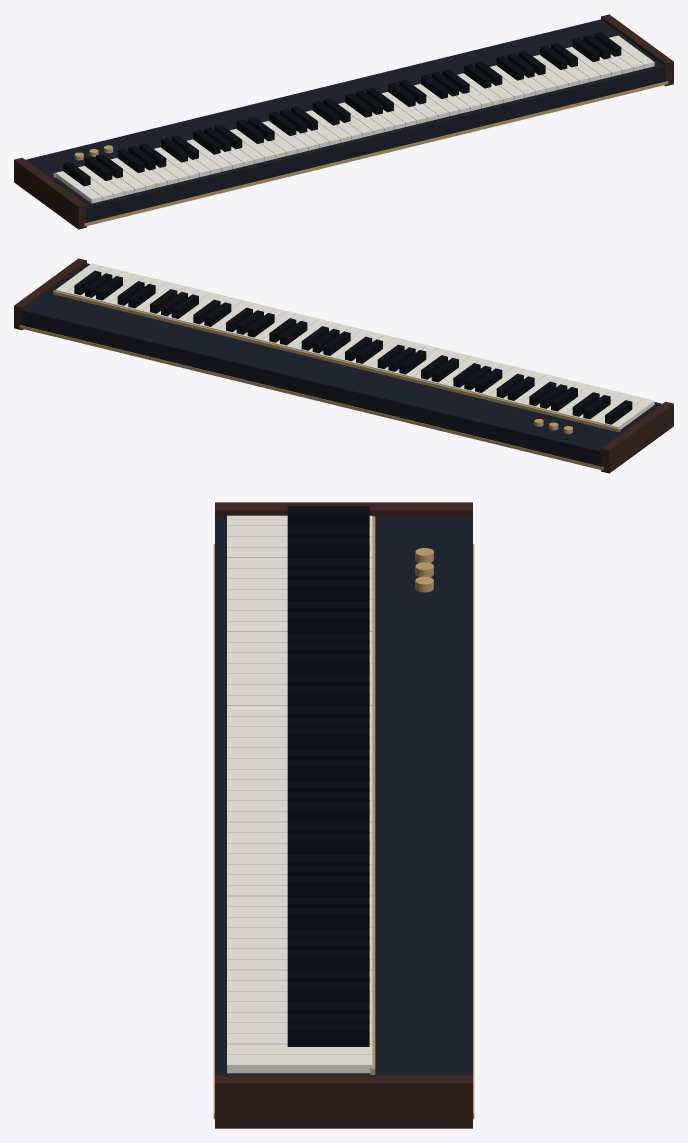
3 views of the same model, one above another, from view 1: azimuth 30°, elevation 25°; view 2: azimuth 150°, elevation 25°; view 3: azimuth 270°, elevation 25° (orthographic). The views are drawn at different scales.
Bounding box in the file's own units: 3.14 × 0.1624 × 0.596.
